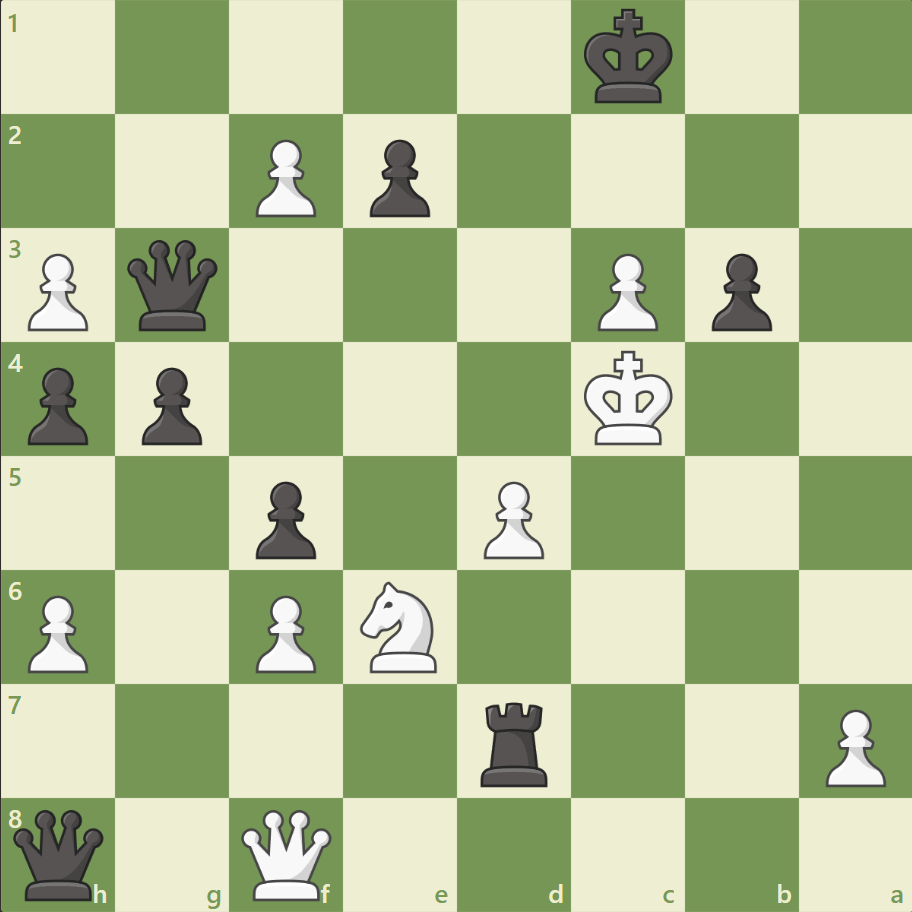K: (579, 344, 679, 452)
N: (351, 575, 449, 677)
P: (247, 586, 322, 677), (20, 586, 95, 677), (474, 473, 549, 564), (20, 246, 95, 337), (247, 132, 322, 223), (815, 700, 889, 791), (588, 246, 662, 337)
Q: (237, 804, 336, 903)
k: (579, 4, 679, 112)
p: (247, 473, 322, 564), (133, 359, 208, 450), (20, 359, 95, 450), (701, 246, 776, 337), (361, 132, 435, 223)
q: (10, 804, 109, 903), (124, 236, 223, 335)
r: (473, 693, 556, 790)
